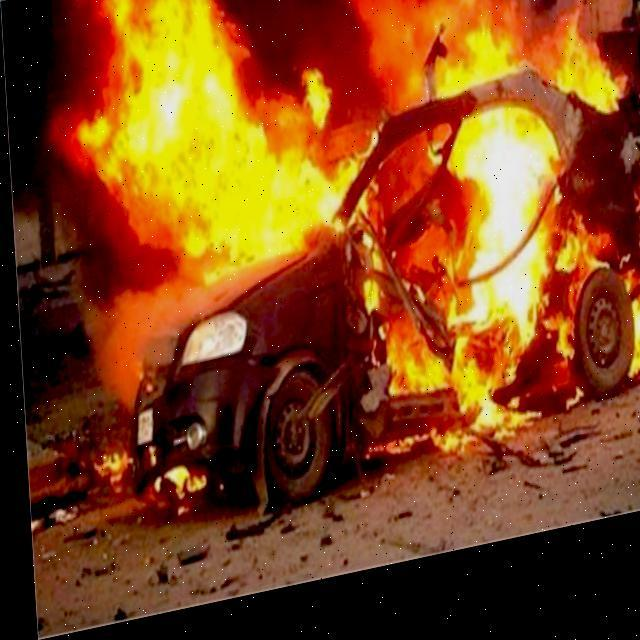Fire: (92, 0, 639, 541)
